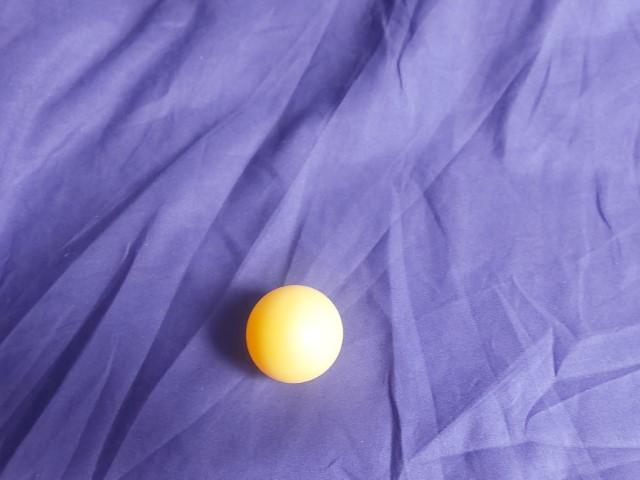oball: (288, 90, 402, 203)
